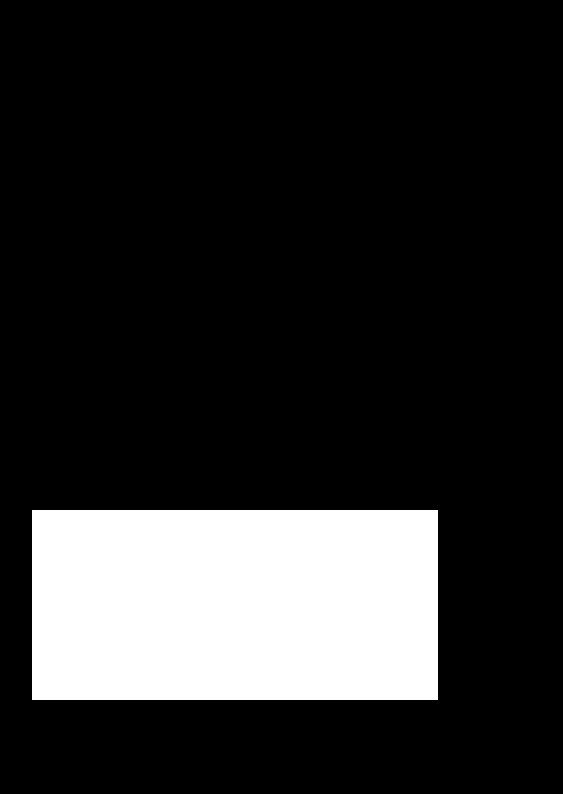table: (32, 510, 437, 699)
